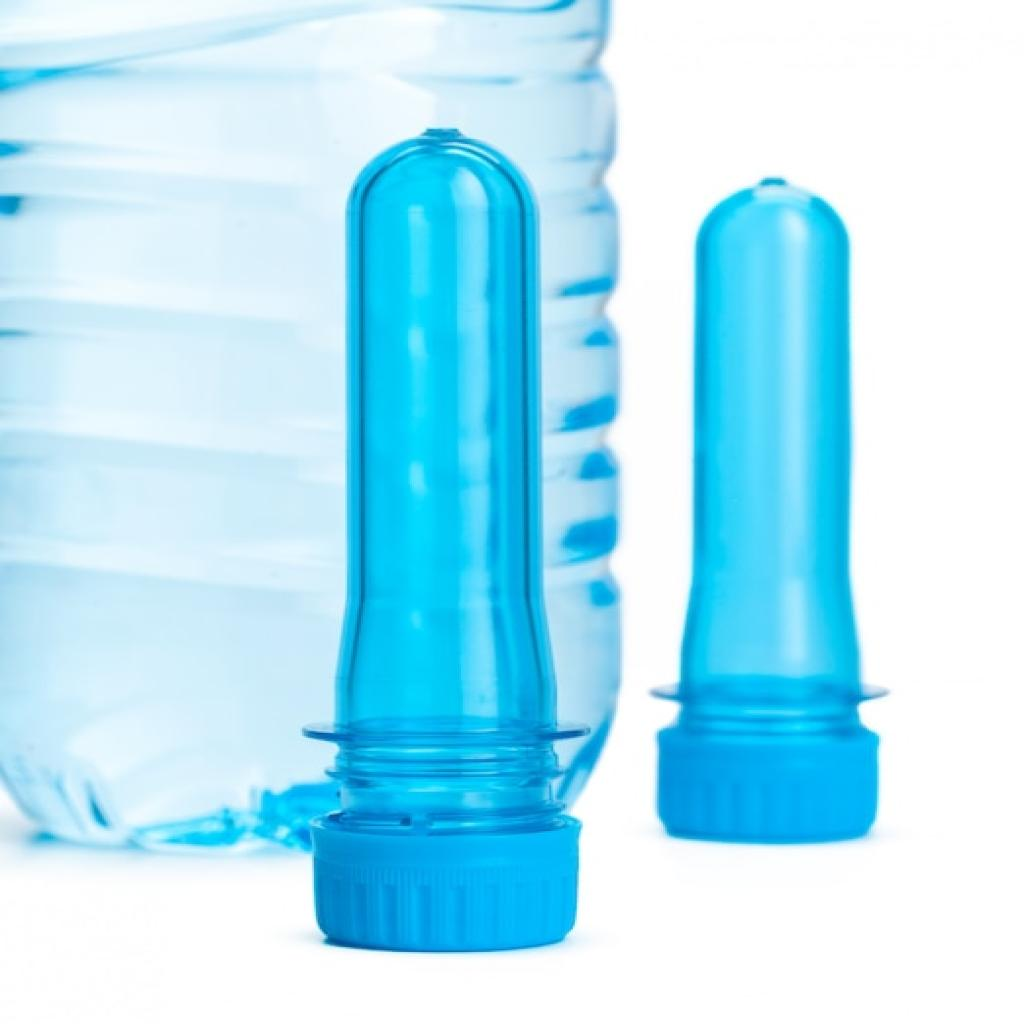plastic: (0, 5, 687, 902), (272, 106, 623, 982), (646, 166, 907, 872)
